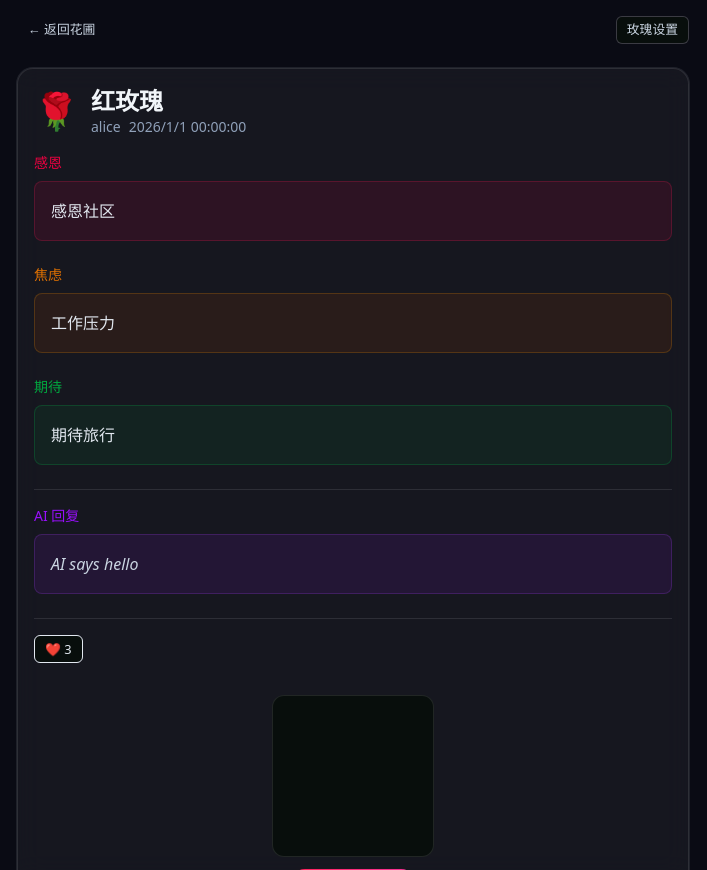
Test: RoseDetailPage › should show private status instead of a private action
This screenshot has width=707, height=870.
What coordinates should you click on to do the following:
click the button "玫瑰设置"
I would click on:
 (652, 30)
Its box is [616, 16, 689, 44].
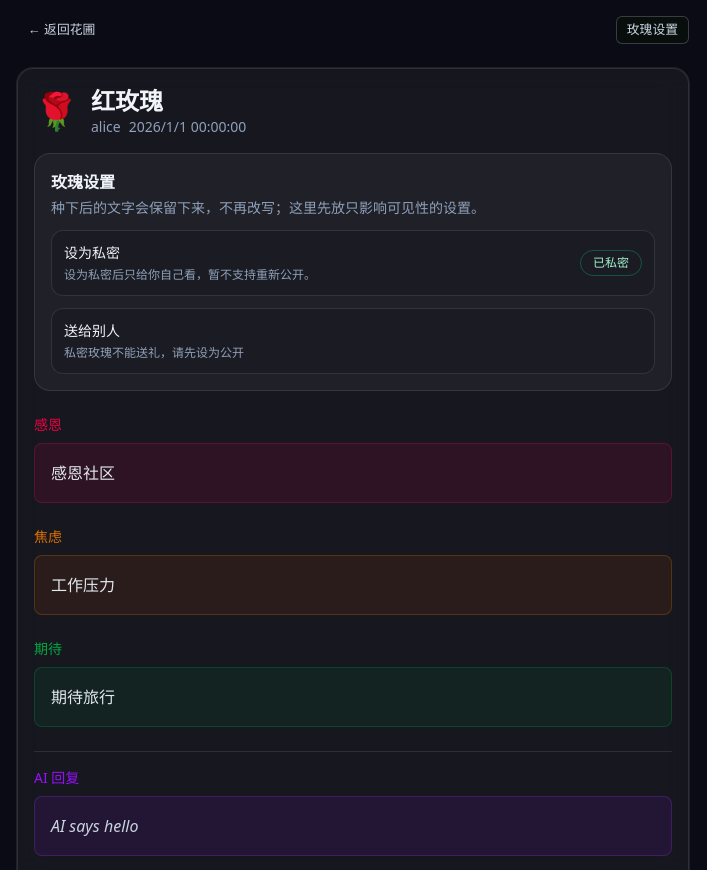
Result: the text "已私密" is shown at [580, 250, 642, 276]
